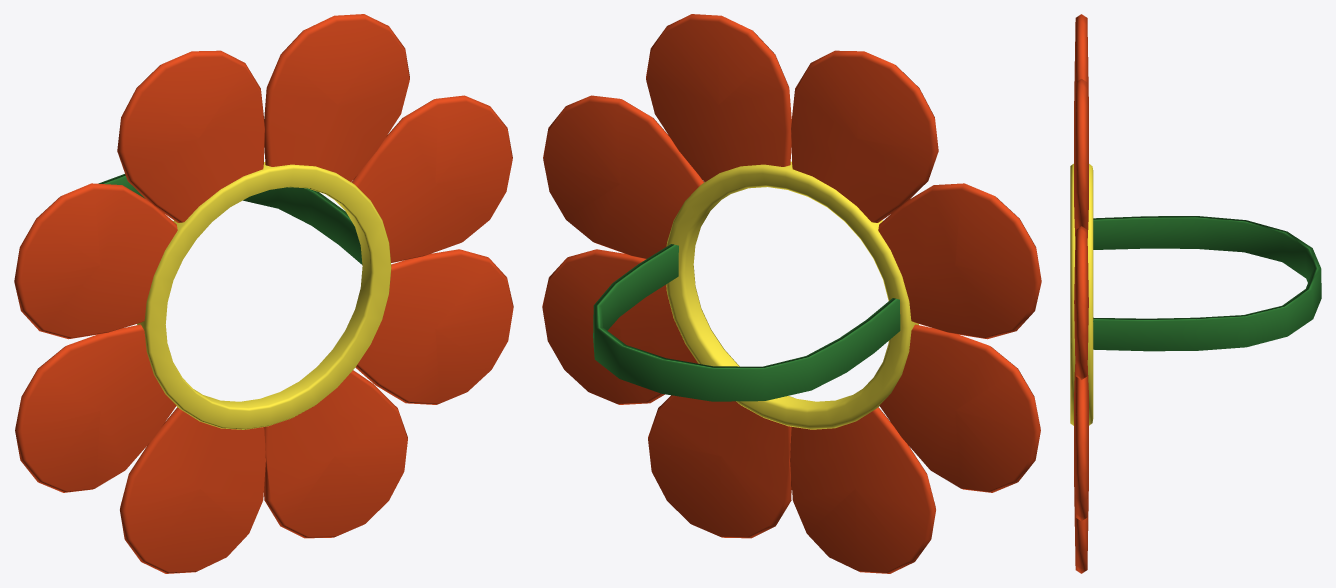
The model's file is flower.fbx.
3 renders of one model, left to right at view 1: azimuth 30°, elevation 25°; view 2: azimuth 150°, elevation 25°; view 3: azimuth 270°, elevation 25°, orthographic. The views are drawn at different scales.
Parts seen in each view (by area): view 1: flower; view 2: flower; view 3: flower.
Part boxes in pixels (left/top/right/bottom): flower: left=14, top=14, right=513, bottom=573; flower: left=542, top=14, right=1041, bottom=573; flower: left=1070, top=14, right=1321, bottom=573.
Bounding box in the file's own units: 232 × 232 × 110.
